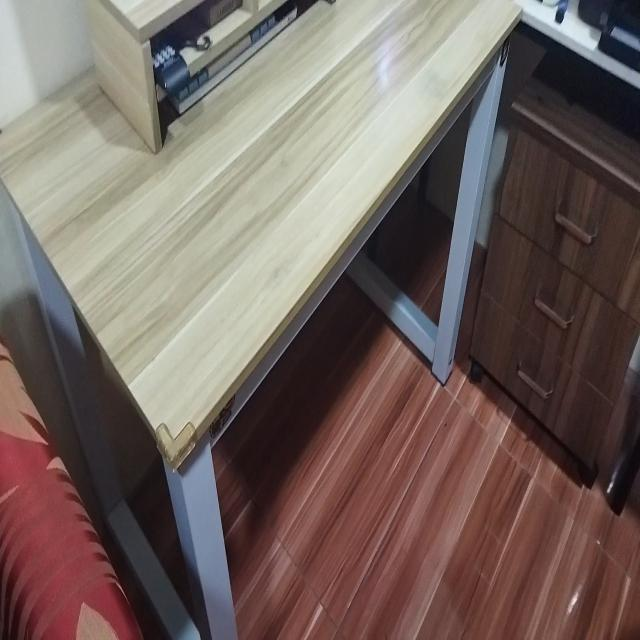table: (0, 0, 526, 640)
